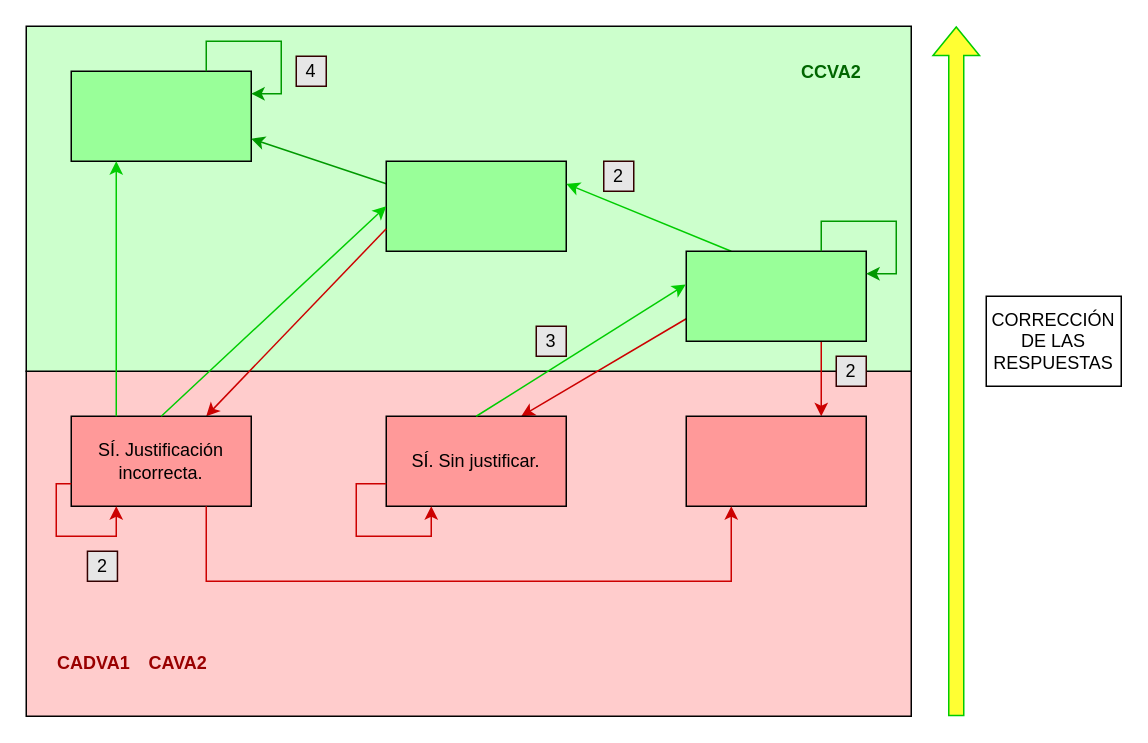
Some shapes in this 1148 by 743 pixel diagram are drawn without their labels. Each missing label, with the box of its shape:
NO. Justificación con ejemplo visto en clase.: (70, 70, 251, 161)
NO. Justificación vaga.: (385, 160, 566, 251)
NO. Sin justificar.: (685, 250, 866, 341)
NS / NC: (685, 415, 866, 506)
